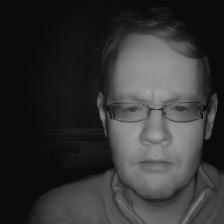normal: (90, 19, 216, 205)
